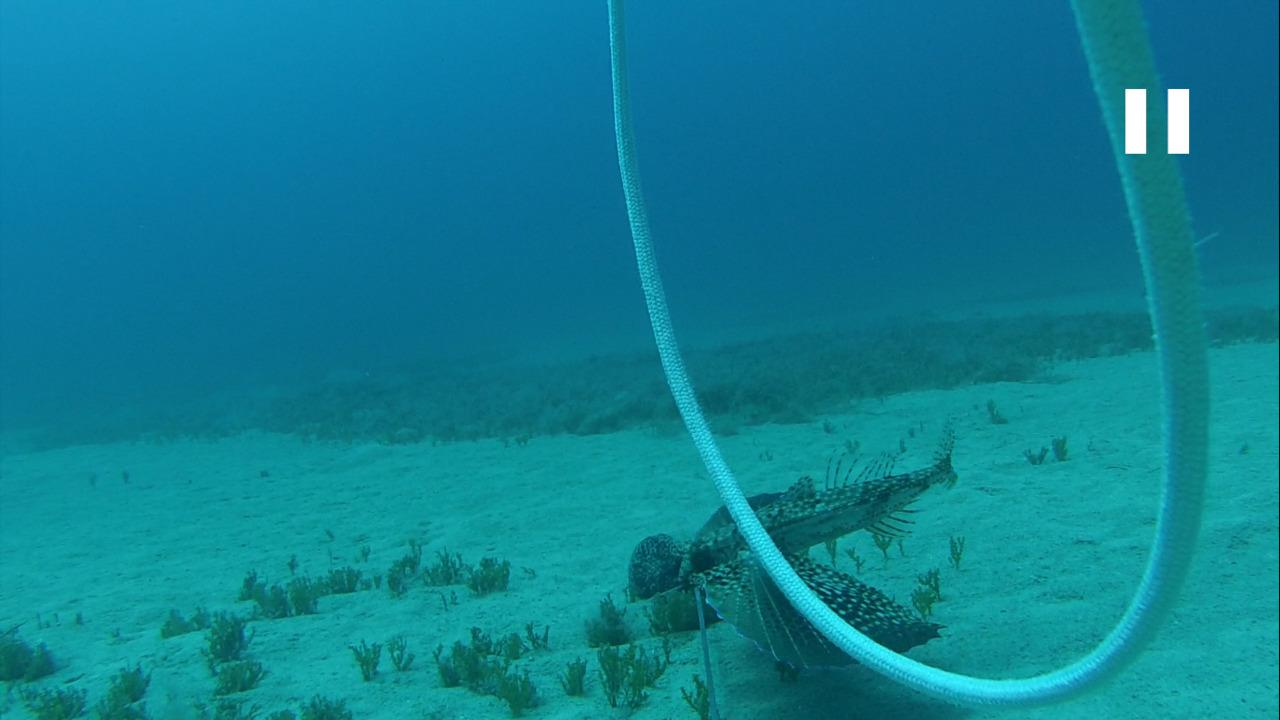dactylopterus: (664, 426, 955, 665)
